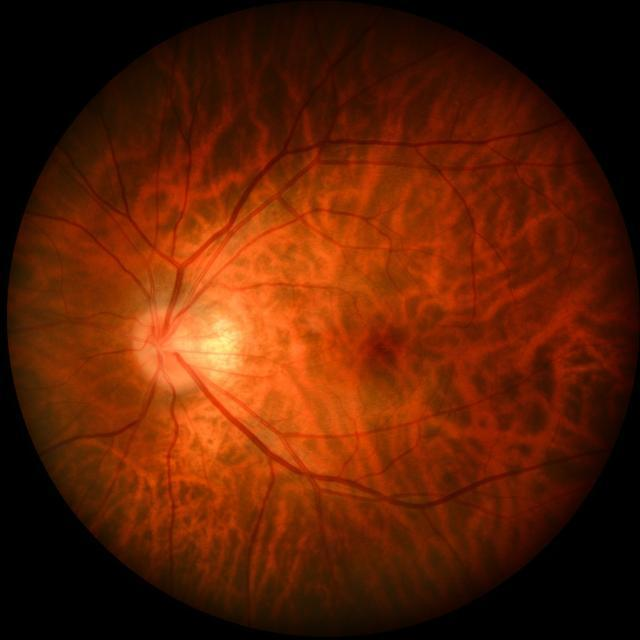OC: (147, 330, 181, 361)
OD: (134, 304, 202, 390)
